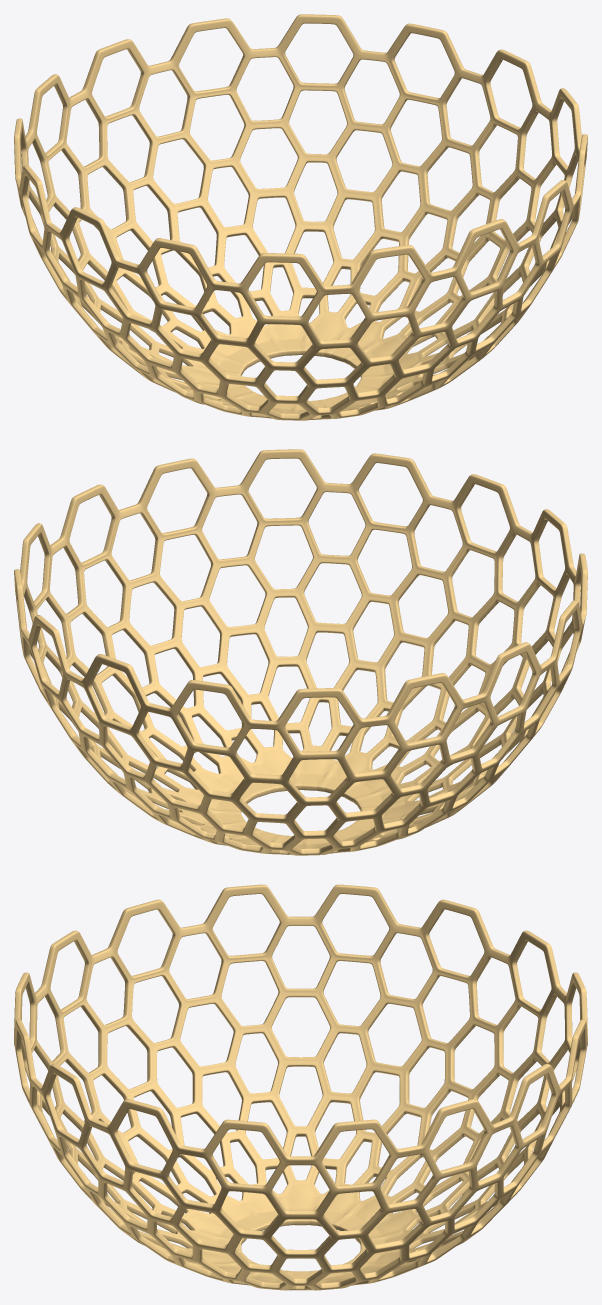
The model's file is HexagonePattern_Sphere.fbx.
3 renders of one model, top to bottom at view 1: azimuth 30°, elevation 25°; view 2: azimuth 150°, elevation 25°; view 3: azimuth 270°, elevation 25°, orthographic.
Visible parts, largest first — view 1: New; view 2: New; view 3: New.
Part boxes in pixels (x1,y1,x2,y2): New: (14,14,587,420); New: (14,449,587,855); New: (14,884,587,1290).
Size of the model in its own units: 181 by 86.01 by 181.
